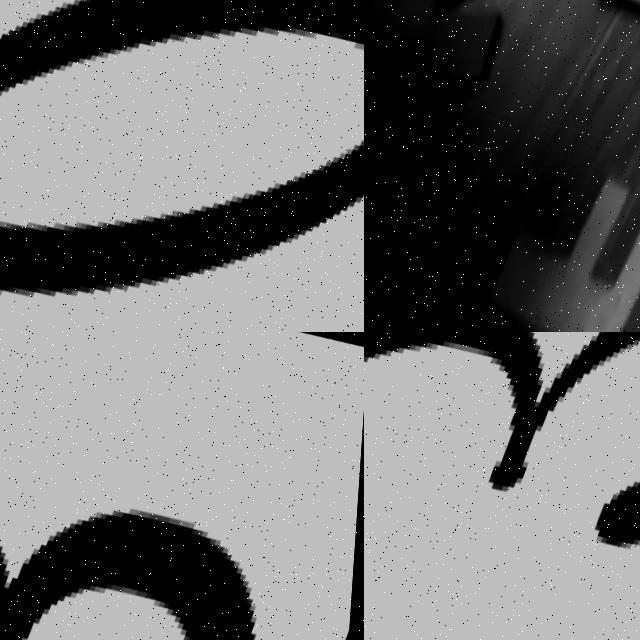0: (0, 0, 364, 332)
3: (364, 332, 640, 640)
F: (485, 115, 640, 332)
K: (364, 0, 558, 147)
M: (364, 84, 486, 332)
R: (0, 339, 343, 640)
